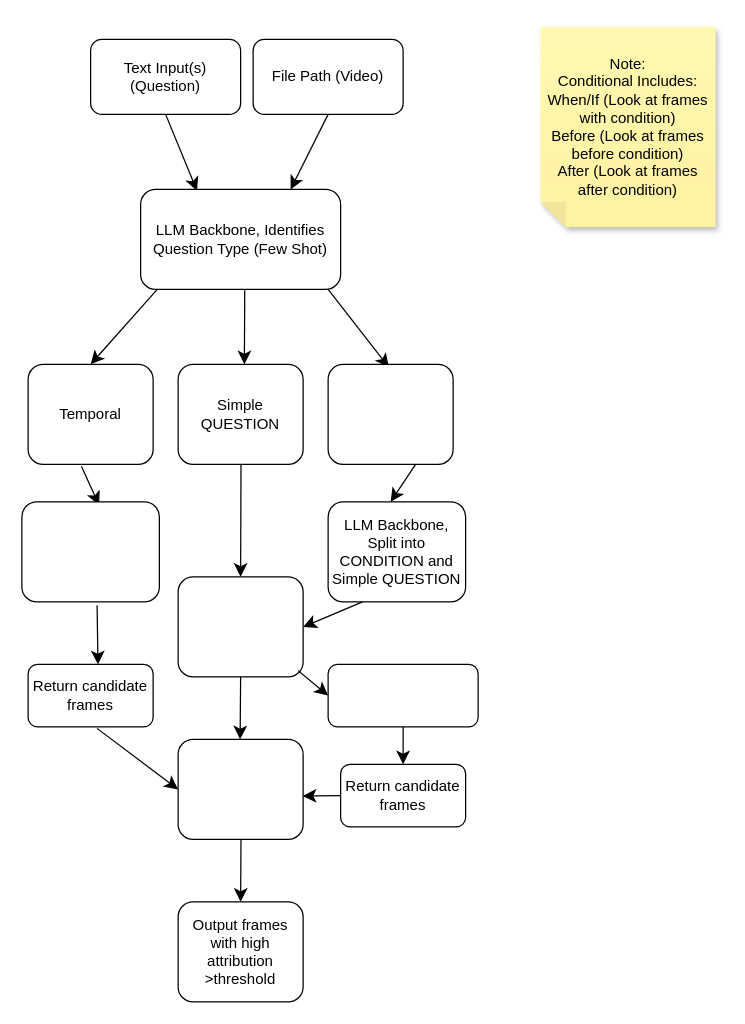
The diagram is 745 pixels wide and 1024 high, and some of its shapes have lost their labels. Each missing label, with the centre of its shape:
Conditional: [390,413]
LLM Backbone, marks TIME QUERY and remaining QUESTION: [90,551]
Pass CONDITION to K frames: [402,695]
Pass QUESTION to frames: [240,788]
Split File Path to alll frames: [240,626]
